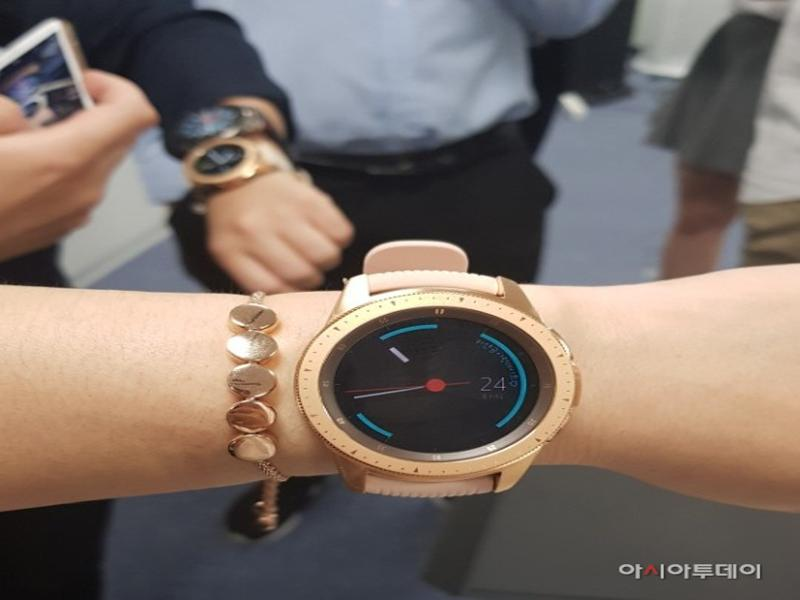watch: (292, 268, 580, 498)
